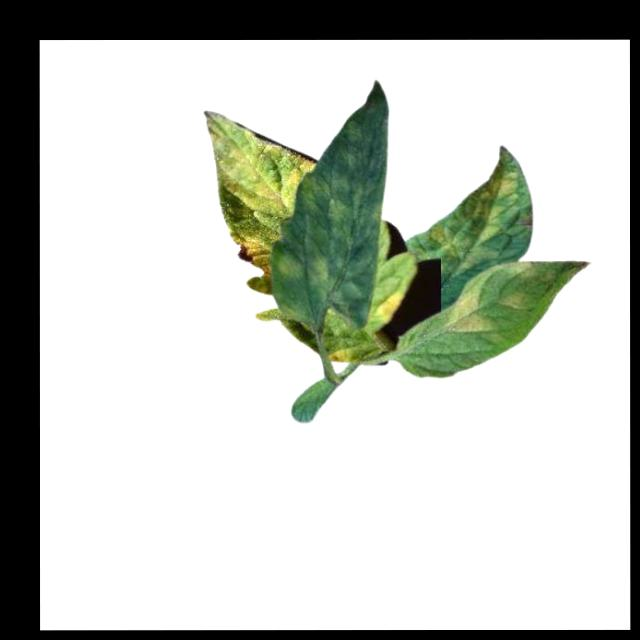Leaf_Mold: (283, 97, 382, 327), (199, 105, 316, 228), (428, 165, 516, 268), (229, 228, 271, 281), (444, 288, 489, 333), (372, 286, 406, 323), (495, 288, 528, 309), (325, 342, 353, 362)
